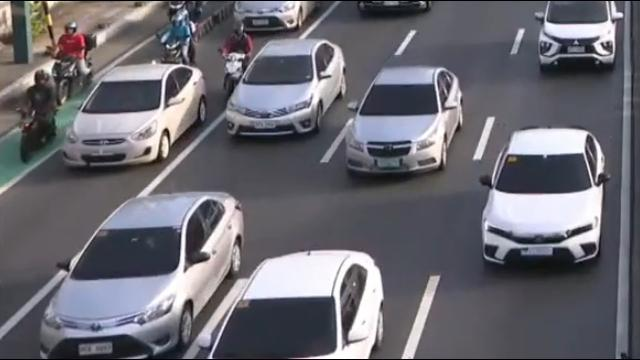car: (27, 187, 248, 360), (197, 242, 393, 360), (469, 120, 612, 280), (57, 59, 208, 170), (343, 65, 465, 179), (225, 38, 346, 142), (532, 0, 629, 79), (229, 0, 324, 37)
motorcycle: (15, 66, 59, 159), (51, 13, 94, 107), (216, 20, 255, 100), (155, 8, 199, 68)
